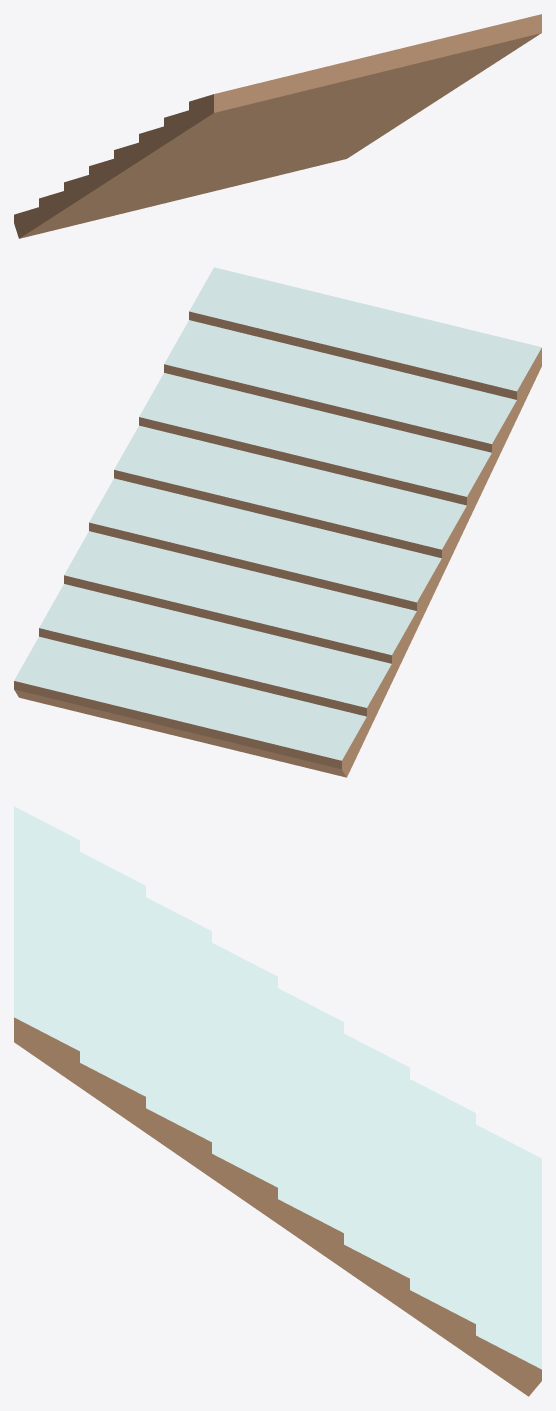
The model's file is cabinRoof.glb.
3 renders of one model, top to bottom at view 1: azimuth 30°, elevation 25°; view 2: azimuth 150°, elevation 25°; view 3: azimuth 270°, elevation 25°, orthographic. The views are drawn at different scales.
Visible parts, largest first — view 1: cabinRoof; view 2: cabinRoof; view 3: cabinRoof.
Boxes of the visible parts, x1,y1,x2,y2 form: cabinRoof: [14, 14, 541, 238]; cabinRoof: [14, 267, 541, 777]; cabinRoof: [14, 806, 541, 1396].
Size of the model in its own units: 1.14 by 0.9559 by 1.21.
